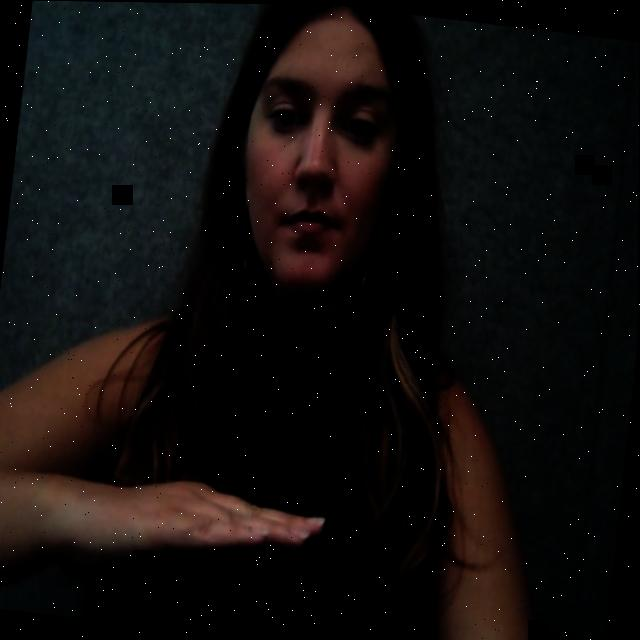Paper: (51, 427, 342, 628)
